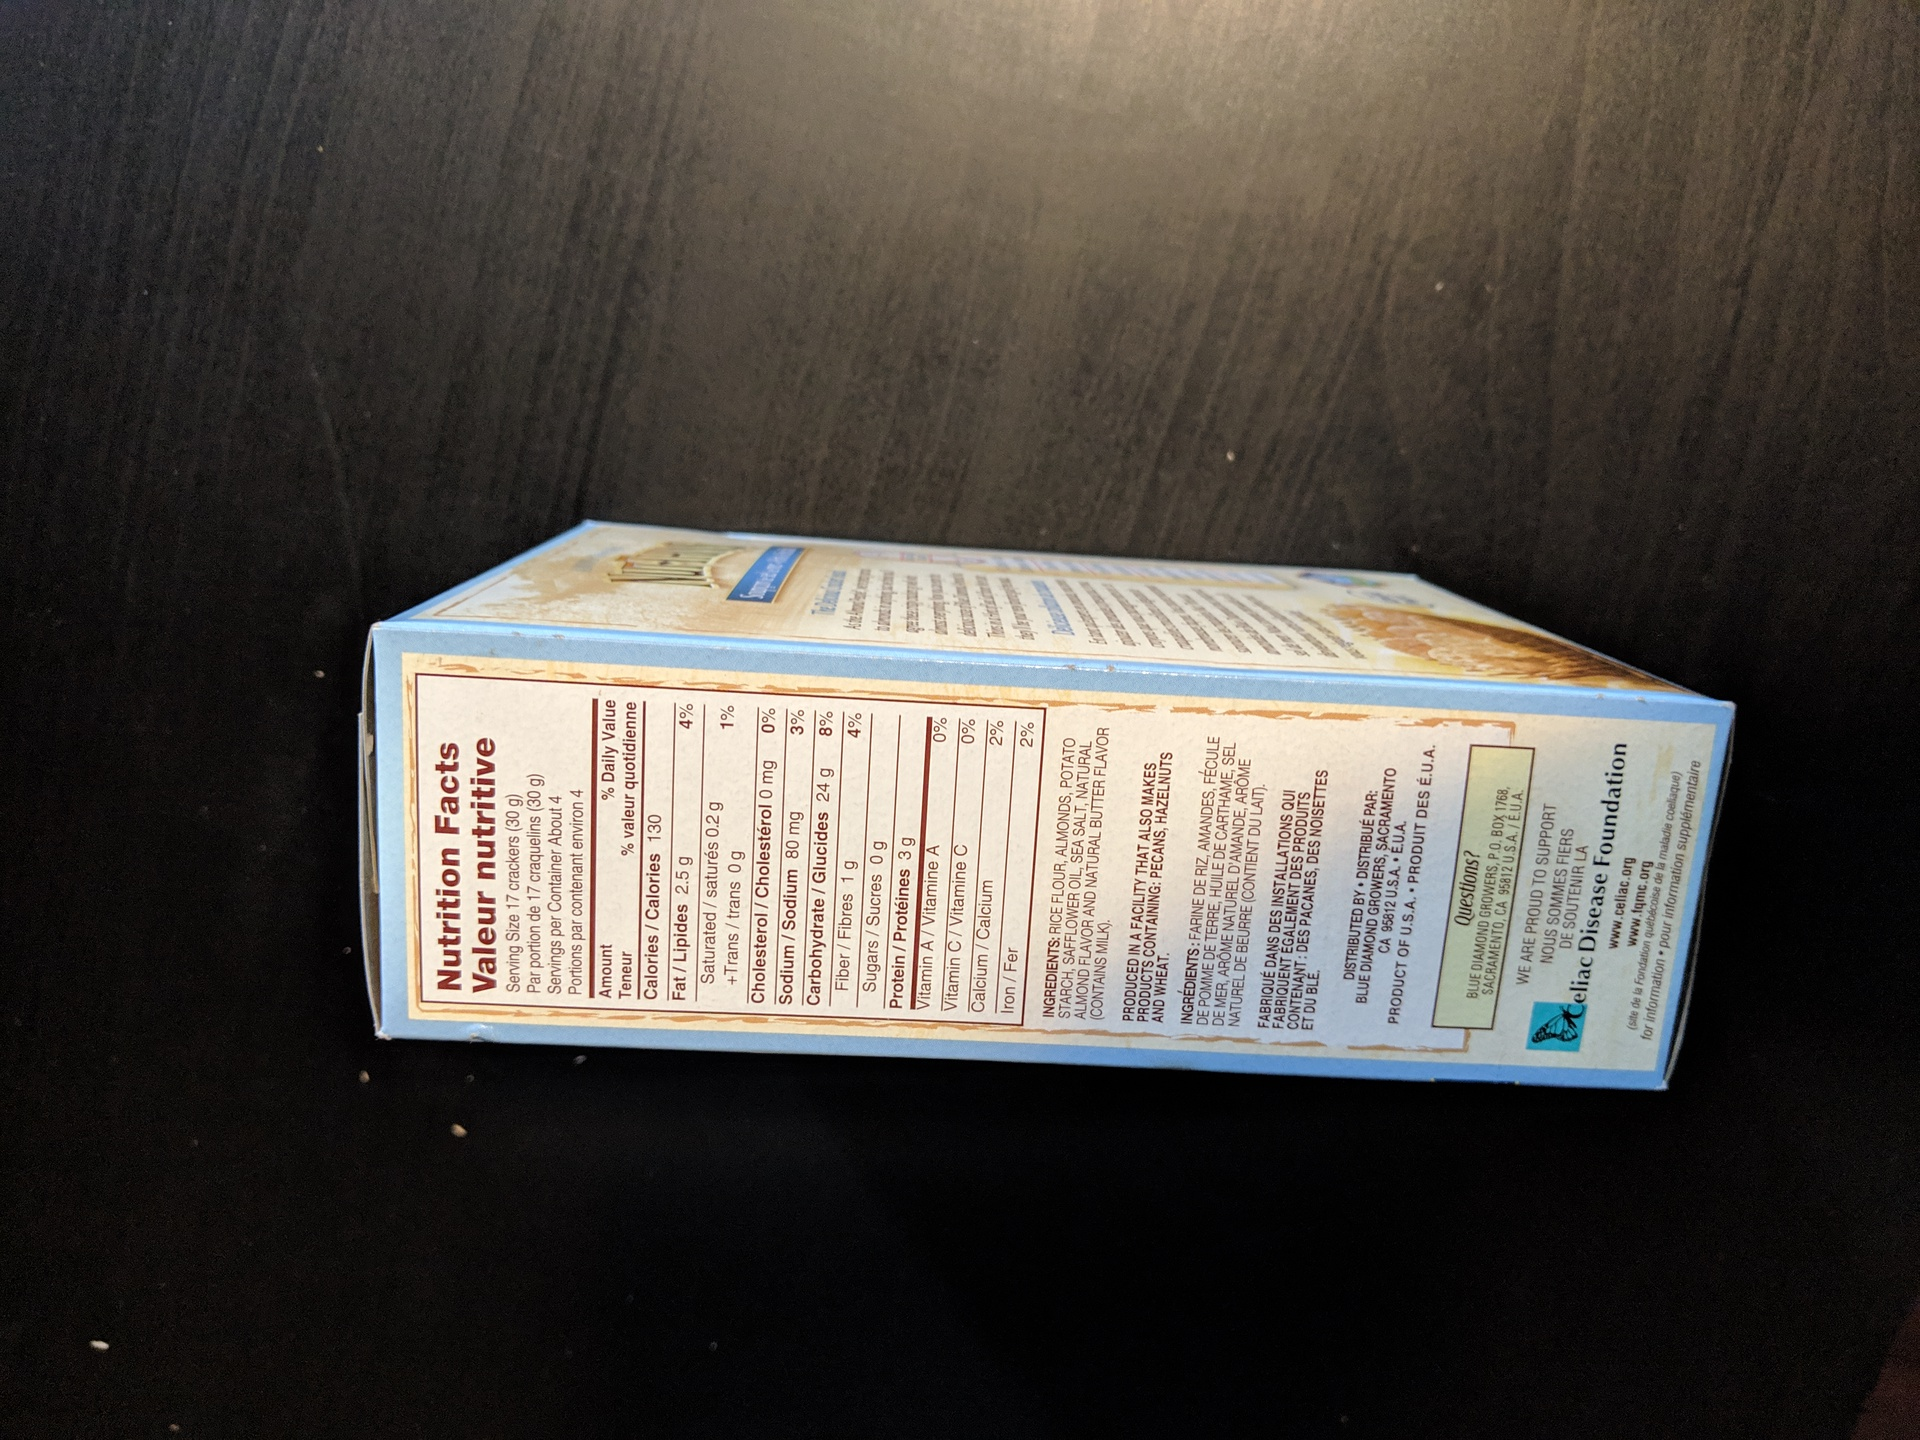blue_diamond_nut_thins_almond_seasalt: (370, 554, 1699, 1066)
